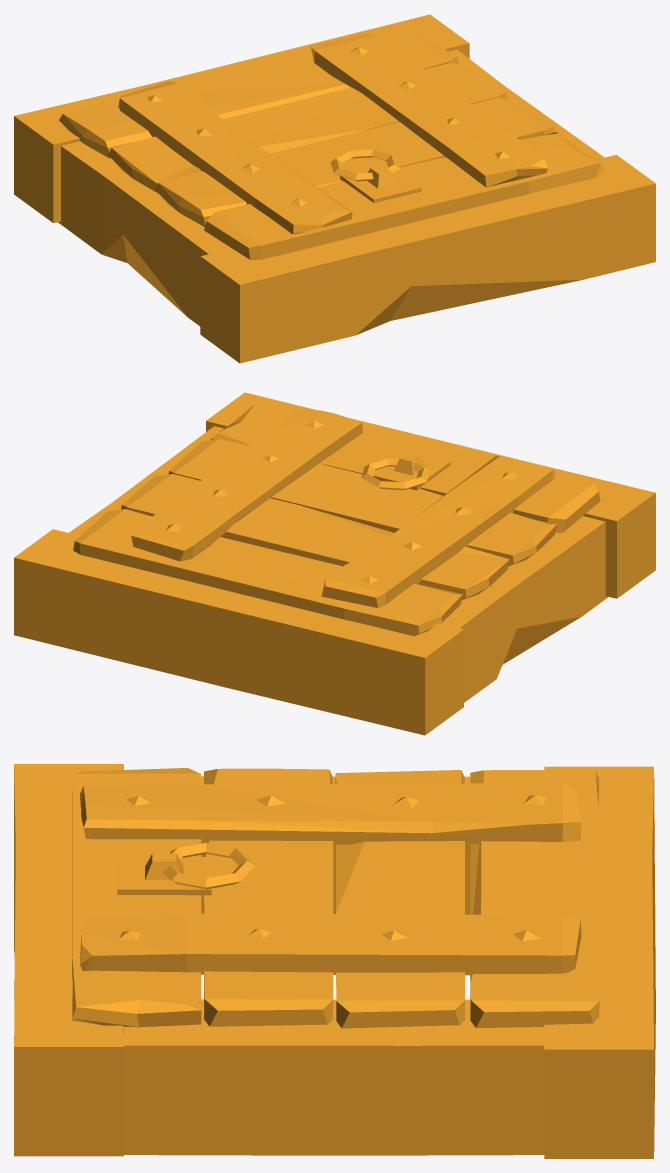
File: SM_Door_Wood_Hatch_Fantasy.fbx
The picture shows the model from 3 angles, top to bottom: view 1: azimuth 30°, elevation 25°; view 2: azimuth 150°, elevation 25°; view 3: azimuth 270°, elevation 25°; orthographic projection. The views are drawn at different scales.
Visible parts, largest first — view 1: SM_Door_Wood_Hatch_Fantasy_Door, SM_Door_Wood_Hatch_Fantasy_Frame; view 2: SM_Door_Wood_Hatch_Fantasy_Door, SM_Door_Wood_Hatch_Fantasy_Frame; view 3: SM_Door_Wood_Hatch_Fantasy_Door, SM_Door_Wood_Hatch_Fantasy_Frame.
Boxes of the visible parts, left/top/right/bottom form: SM_Door_Wood_Hatch_Fantasy_Door: left=59, top=28, right=604, bottom=259; SM_Door_Wood_Hatch_Fantasy_Frame: left=14, top=14, right=655, bottom=363; SM_Door_Wood_Hatch_Fantasy_Door: left=73, top=404, right=600, bottom=636; SM_Door_Wood_Hatch_Fantasy_Frame: left=14, top=392, right=655, bottom=735; SM_Door_Wood_Hatch_Fantasy_Door: left=72, top=768, right=599, bottom=1028; SM_Door_Wood_Hatch_Fantasy_Frame: left=14, top=764, right=655, bottom=1158.
Bounding box in the file's own units: 1.54 × 0.3882 × 1.46.
